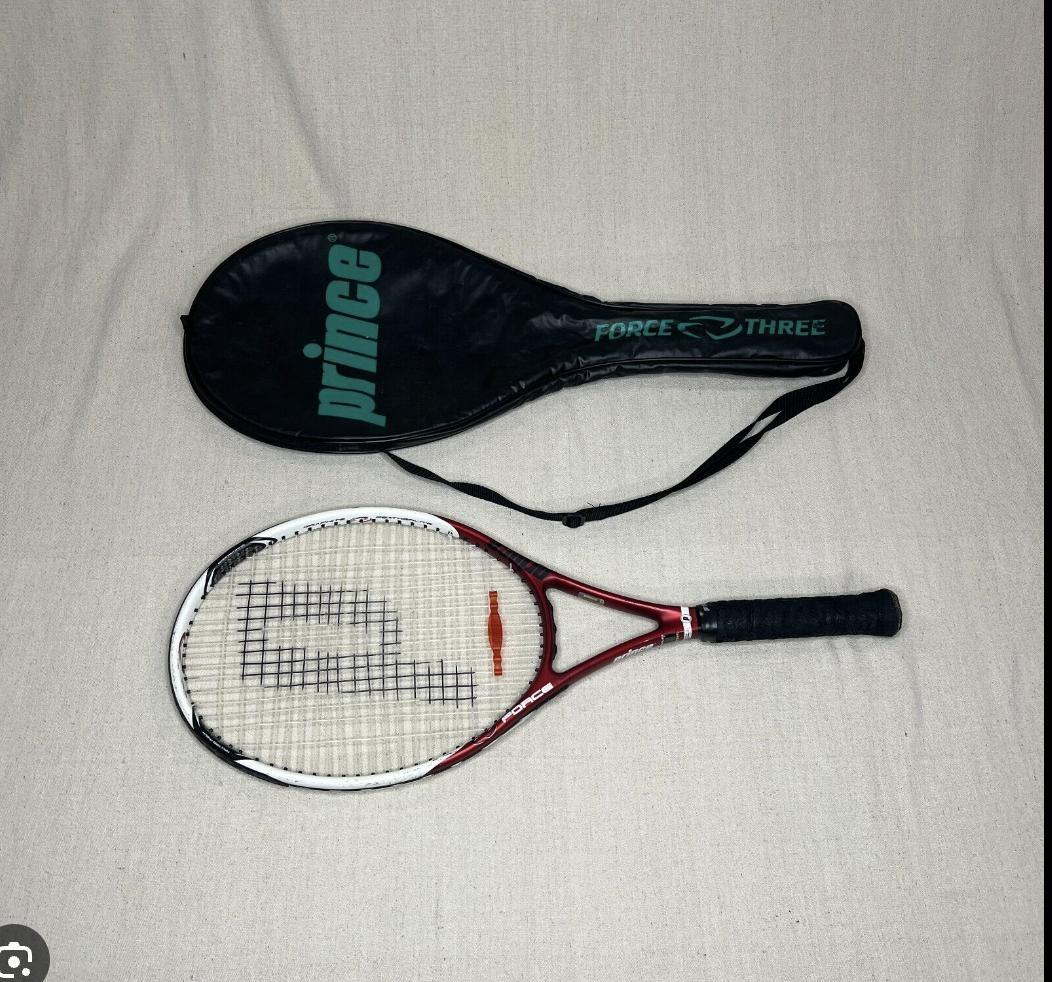Tennis-Racket: (173, 508, 902, 792)
